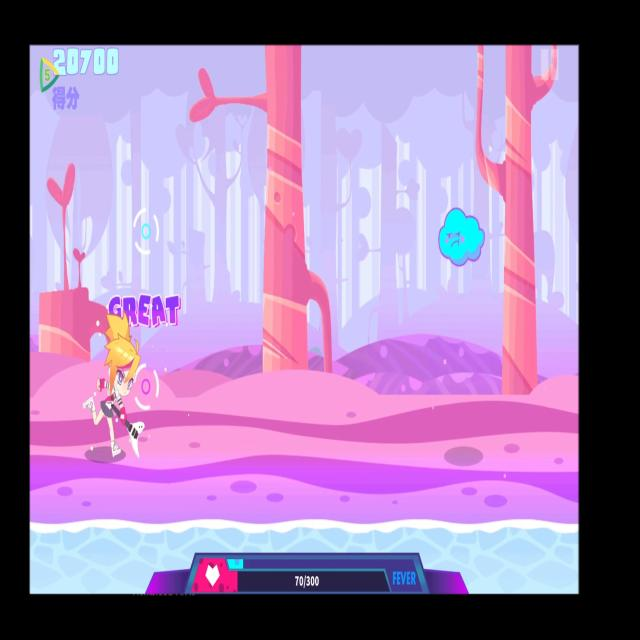yun: (435, 204, 490, 275)
